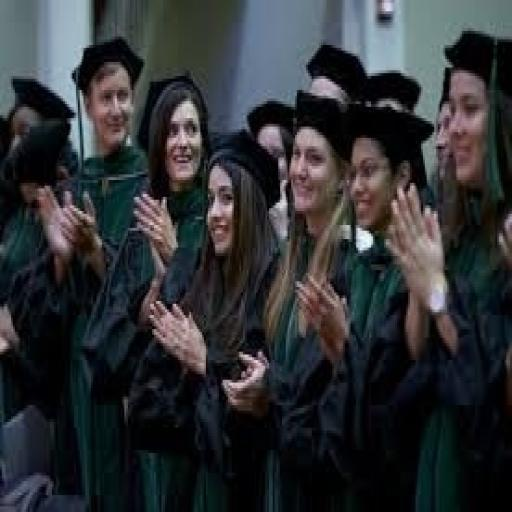clapping: (0, 28, 510, 509)
